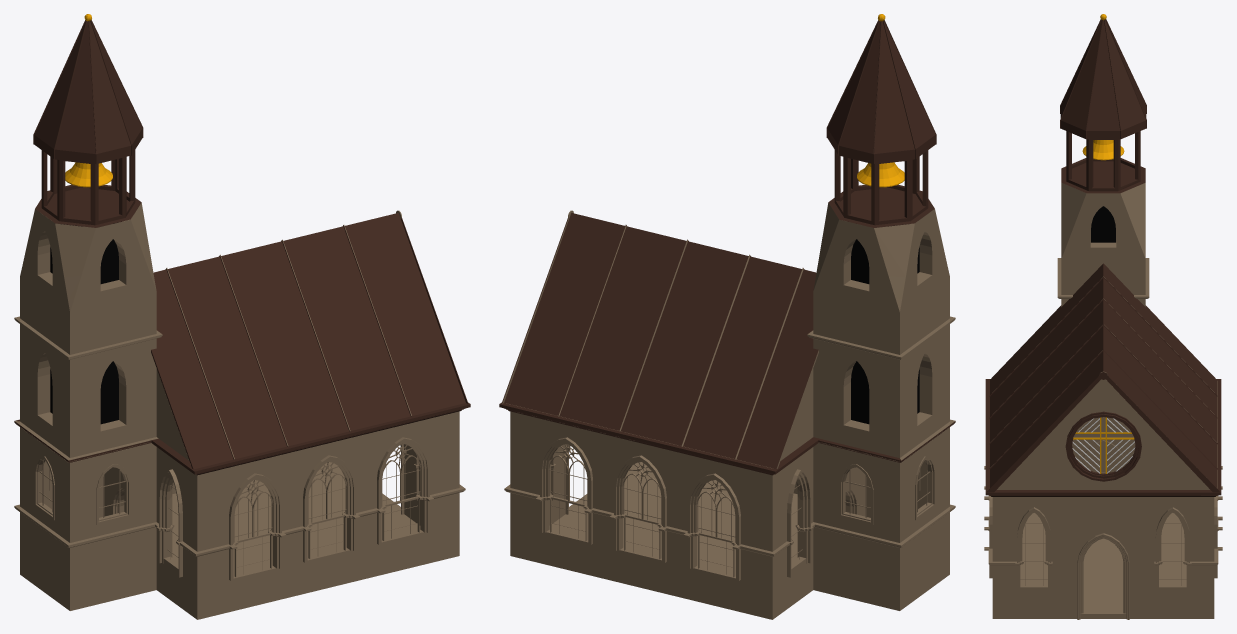
Rendered from dchapel.glb.
The picture shows the model from 3 angles, left to right: view 1: azimuth 30°, elevation 25°; view 2: azimuth 150°, elevation 25°; view 3: azimuth 270°, elevation 25°; orthographic projection. The views are drawn at different scales.
Parts seen in each view (by area): view 1: church_asset; view 2: church_asset; view 3: church_asset.
Part boxes in pixels (x1=…): church_asset: x1=14, y1=14, x2=470, y2=619; church_asset: x1=499, y1=14, x2=955, y2=619; church_asset: x1=984, y1=14, x2=1222, y2=619.
Bounding box in the file's own units: 6.78 × 10.23 × 4.61.
